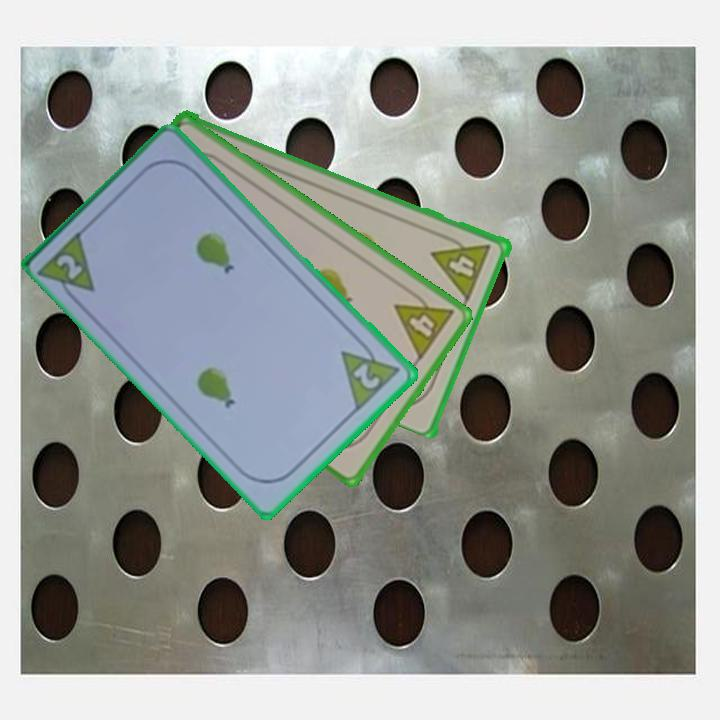2p: (338, 333, 404, 414), (53, 250, 87, 284)
4p: (390, 283, 458, 363), (429, 229, 494, 302)
